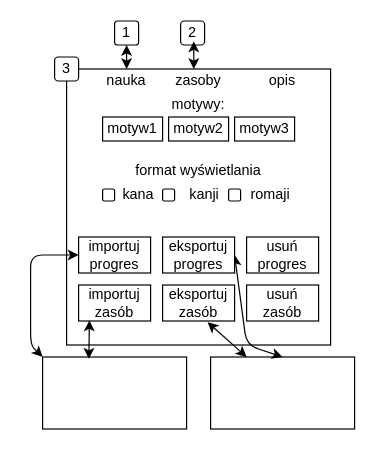
The diagram is 376 pixels wide and 450 high, and some of its shapes have lost their labels. Here are the shapes that lost their labels. From the top down, the centre of each, then its label:
At point (114, 392): "import zasobów/zestawów".
At point (282, 392): "eksport zasobów/zestawów".
